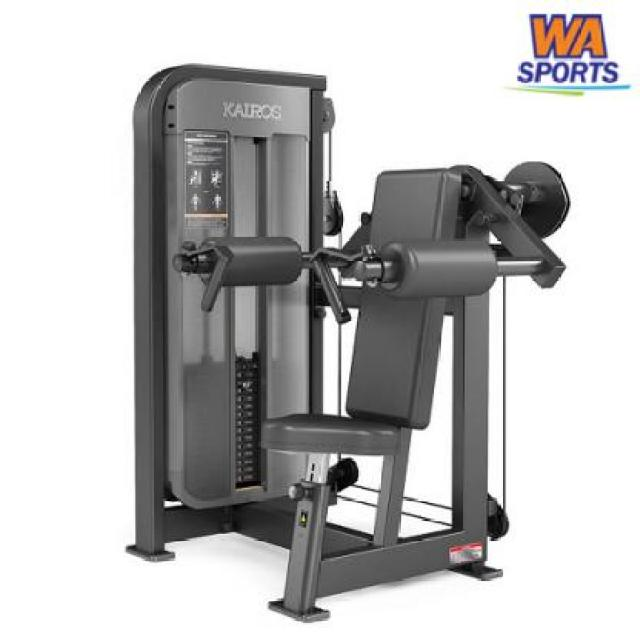lateral raises machine: (131, 109, 572, 628)
